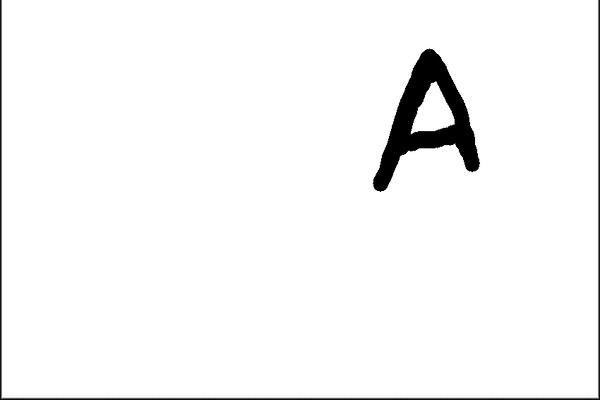A: (360, 37, 490, 197)
